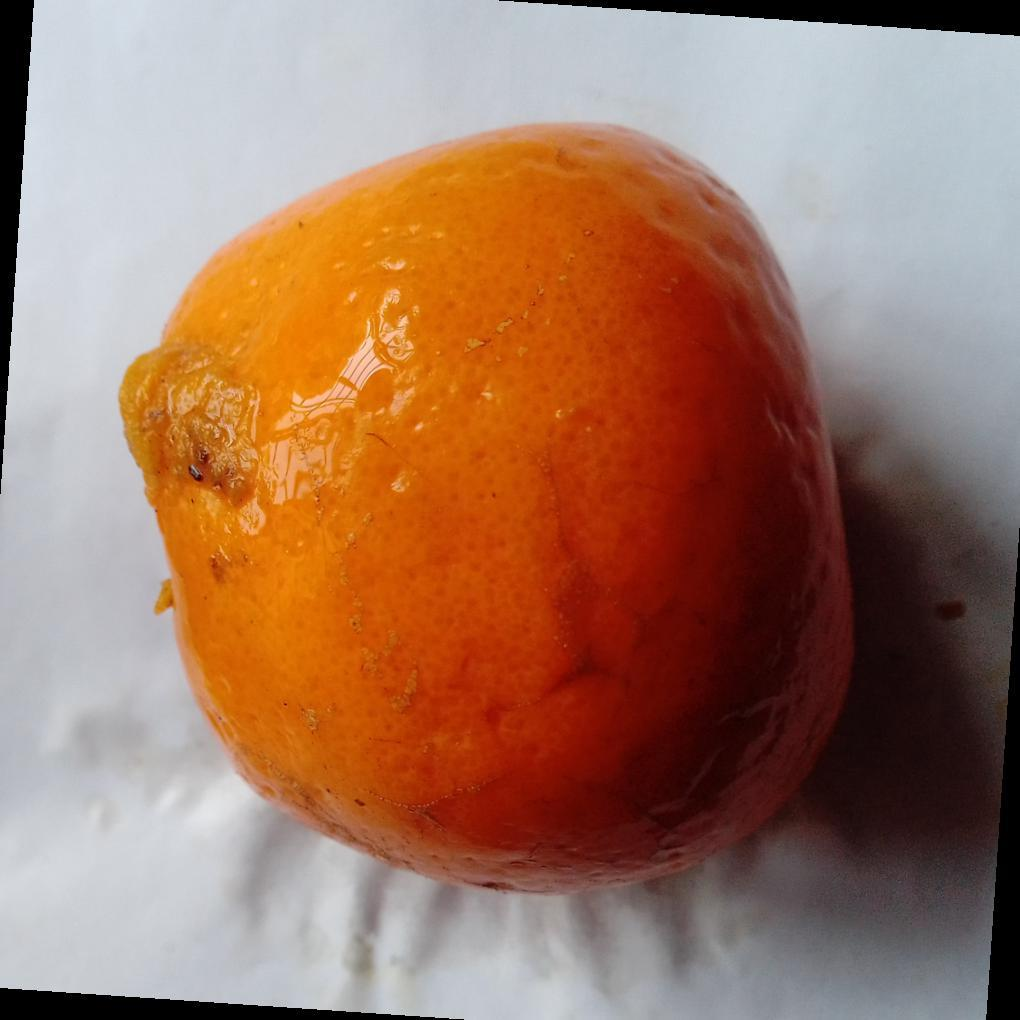FreshOrange: (116, 122, 858, 899)
